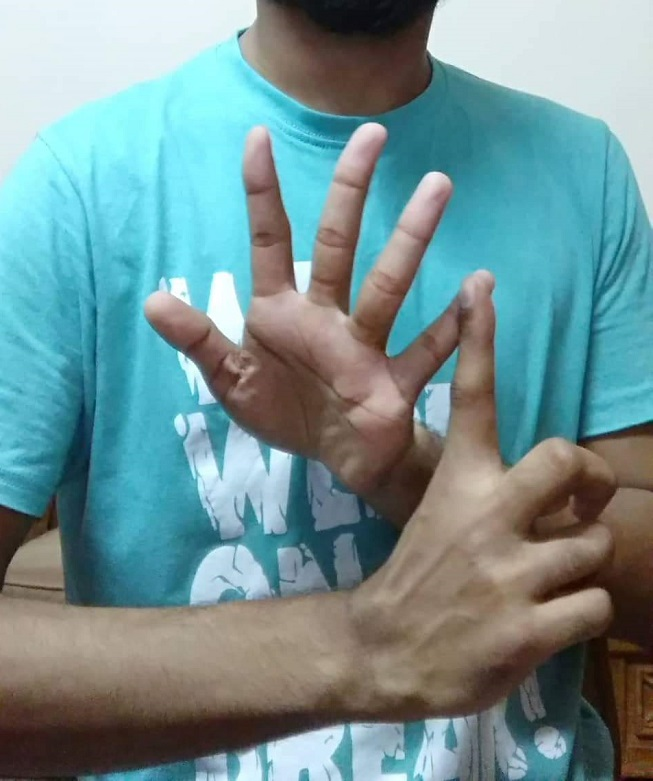i: (146, 120, 607, 621)
